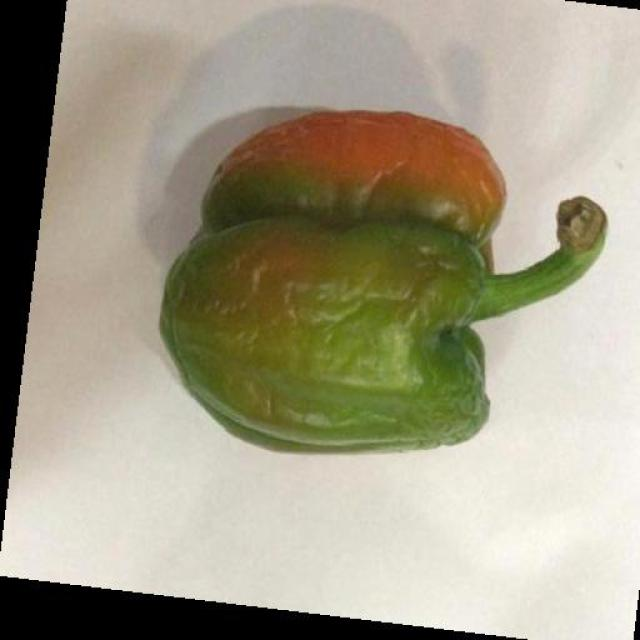Stale_Capsicum: (181, 90, 548, 462)
